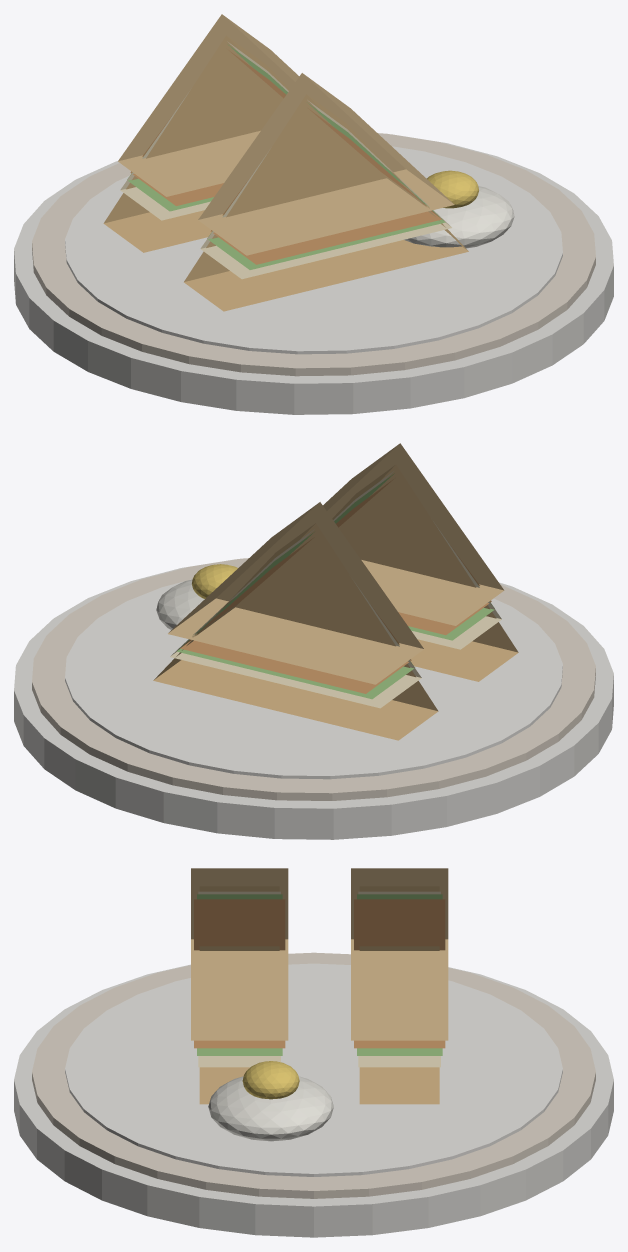
Rendered from sandwich_trung.glb.
3 renders of one model, top to bottom at view 1: azimuth 30°, elevation 25°; view 2: azimuth 150°, elevation 25°; view 3: azimuth 270°, elevation 25°, orthographic.
Visible parts, largest first — view 1: obj_0002, obj_0000, obj_0001, obj_0008, obj_0012, obj_0003, obj_0007, obj_0013, obj_0011, obj_0009, obj_0010, obj_0004 (+3 smaller); view 2: obj_0002, obj_0000, obj_0001, obj_0003, obj_0007, obj_0008, obj_0012, obj_0006, obj_0004, obj_0005, obj_0013, obj_0009 (+3 smaller); view 3: obj_0002, obj_0000, obj_0001, obj_0007, obj_0012, obj_0013, obj_0006, obj_0011, obj_0003, obj_0008, obj_0014, obj_0004 (+3 smaller).
Boxes of the visible parts, left/top/right/bottom form: obj_0002: left=65, top=146, right=562, bottom=354; obj_0000: left=14, top=134, right=613, bottom=414; obj_0001: left=32, top=133, right=595, bottom=376; obj_0008: left=184, top=94, right=468, bottom=311; obj_0012: left=198, top=73, right=454, bottom=255; obj_0003: left=103, top=35, right=289, bottom=252; obj_0007: left=118, top=14, right=299, bottom=196; obj_0013: left=404, top=186, right=514, bottom=248; obj_0011: left=210, top=108, right=441, bottom=264; obj_0009: left=200, top=100, right=451, bottom=279; obj_0010: left=207, top=102, right=445, bottom=269; obj_0004: left=120, top=41, right=288, bottom=220; obj_0002: left=65, top=579, right=562, bottom=779; obj_0000: left=14, top=559, right=613, bottom=839; obj_0001: left=32, top=558, right=595, bottom=800; obj_0003: left=153, top=523, right=438, bottom=740; obj_0007: left=168, top=502, right=423, bottom=684; obj_0008: left=332, top=465, right=518, bottom=681; obj_0012: left=323, top=443, right=504, bottom=625; obj_0006: left=180, top=537, right=411, bottom=693; obj_0004: left=170, top=529, right=421, bottom=708; obj_0005: left=177, top=532, right=414, bottom=699; obj_0013: left=156, top=579, right=204, bottom=629; obj_0009: left=333, top=471, right=501, bottom=649; obj_0002: left=65, top=963, right=562, bottom=1176; obj_0000: left=14, top=964, right=613, bottom=1237; obj_0001: left=32, top=952, right=595, bottom=1198; obj_0007: left=351, top=868, right=448, bottom=1040; obj_0012: left=191, top=868, right=288, bottom=1040; obj_0013: left=208, top=1076, right=333, bottom=1141; obj_0006: left=354, top=899, right=445, bottom=1048; obj_0011: left=194, top=899, right=285, bottom=1048; obj_0003: left=359, top=886, right=439, bottom=1104; obj_0008: left=199, top=886, right=279, bottom=1104; obj_0014: left=242, top=1061, right=299, bottom=1099; obj_0004: left=358, top=891, right=440, bottom=1067.
Bounding box in the file's own units: 2.1 × 0.89 × 2.1.
